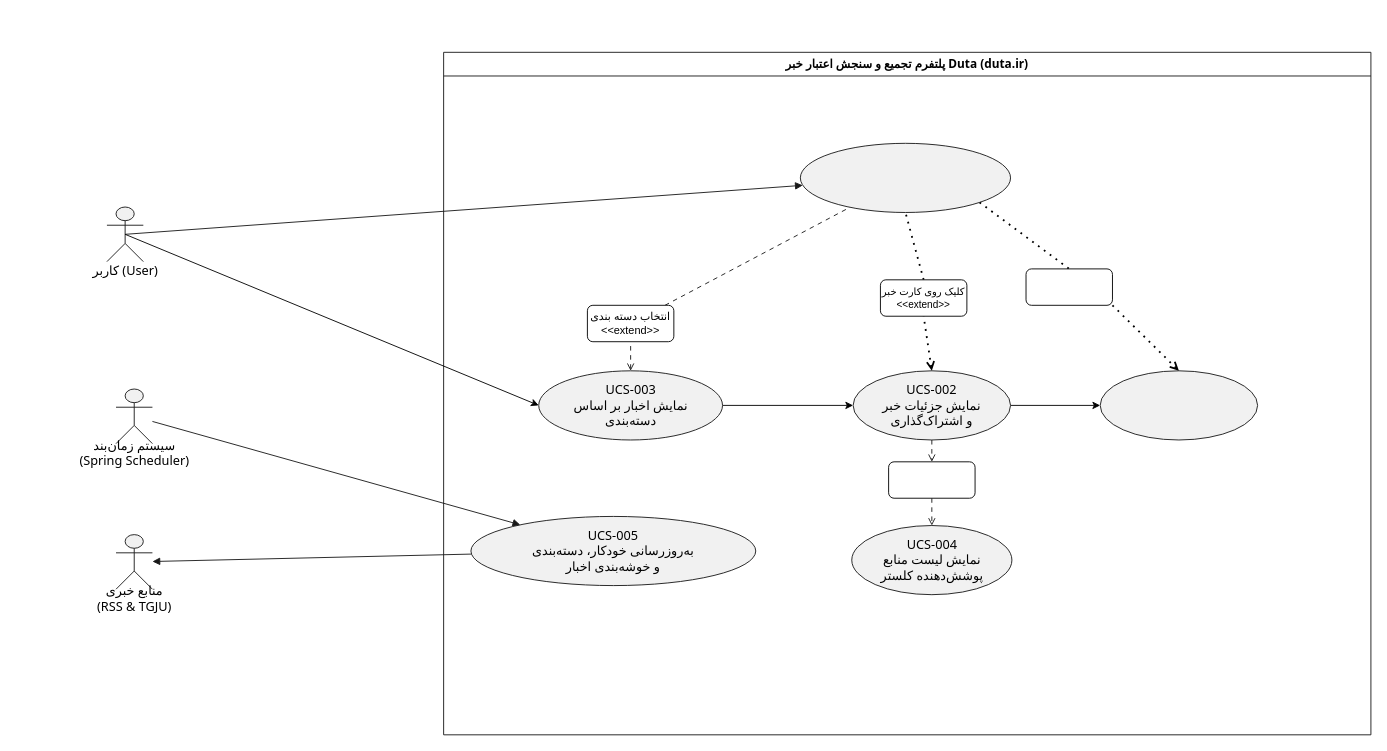
Image size: 1387x751. Some labels were removed from this diagram. Each missing label, with the centre of its shape:
"UCS-001 مدیریت منو و نمایش خبر (لندینگ پیج)" belongs at point 905,177.
"UCS-006 جستجوی هوشمند در اخبار و منابع" belongs at point 1178,405.
"واکنش منابع همپوشانی <<include>>" belongs at point 931,479.
"کلیک روی آیکون سرچ <<extend>>" belongs at point 1068,286.
